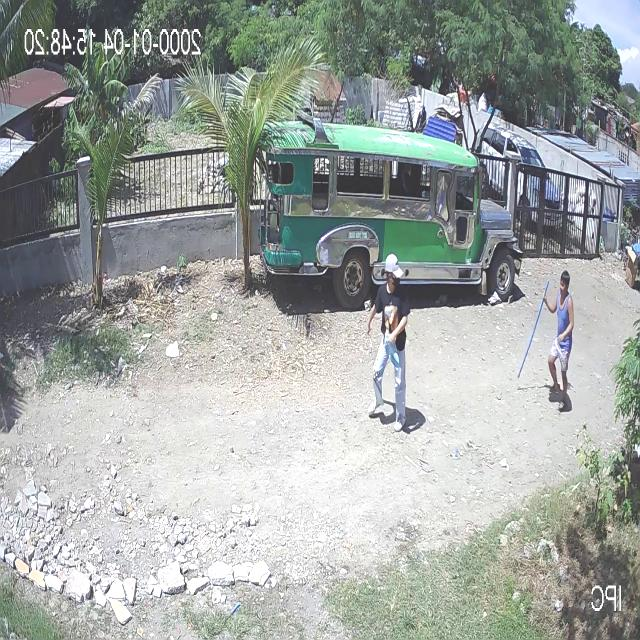running: (518, 269, 574, 409)
walking: (367, 254, 411, 431)
